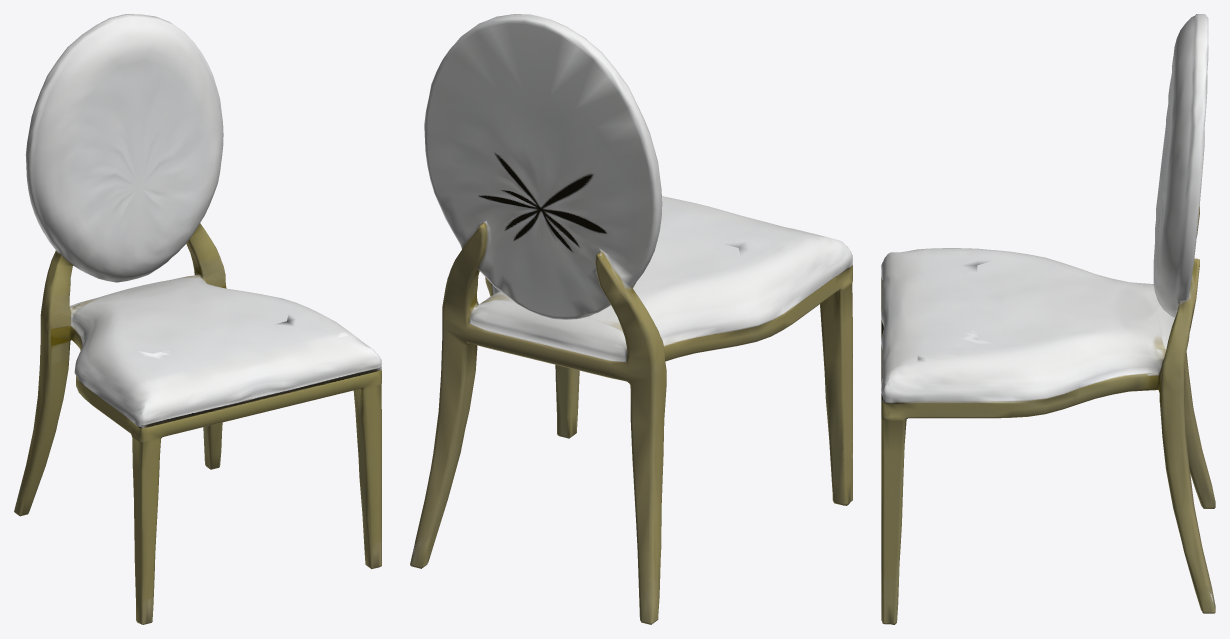
File: Elegant_Gold_and_Whit_0320031418_texture.glb
The picture shows the model from 3 angles, left to right: view 1: azimuth 30°, elevation 25°; view 2: azimuth 150°, elevation 25°; view 3: azimuth 270°, elevation 25°; orthographic projection. The views are drawn at different scales.
Visible parts, largest first — view 1: Mesh_0.002; view 2: Mesh_0.002; view 3: Mesh_0.002.
Part boxes in pixels (box(x1,y1,x2,y2)): Mesh_0.002: box(14, 14, 381, 624); Mesh_0.002: box(410, 14, 852, 624); Mesh_0.002: box(881, 14, 1215, 624).
Bounding box in the file's own units: 0.4901 × 0.9144 × 0.5163.
1 material, 1 textured.
